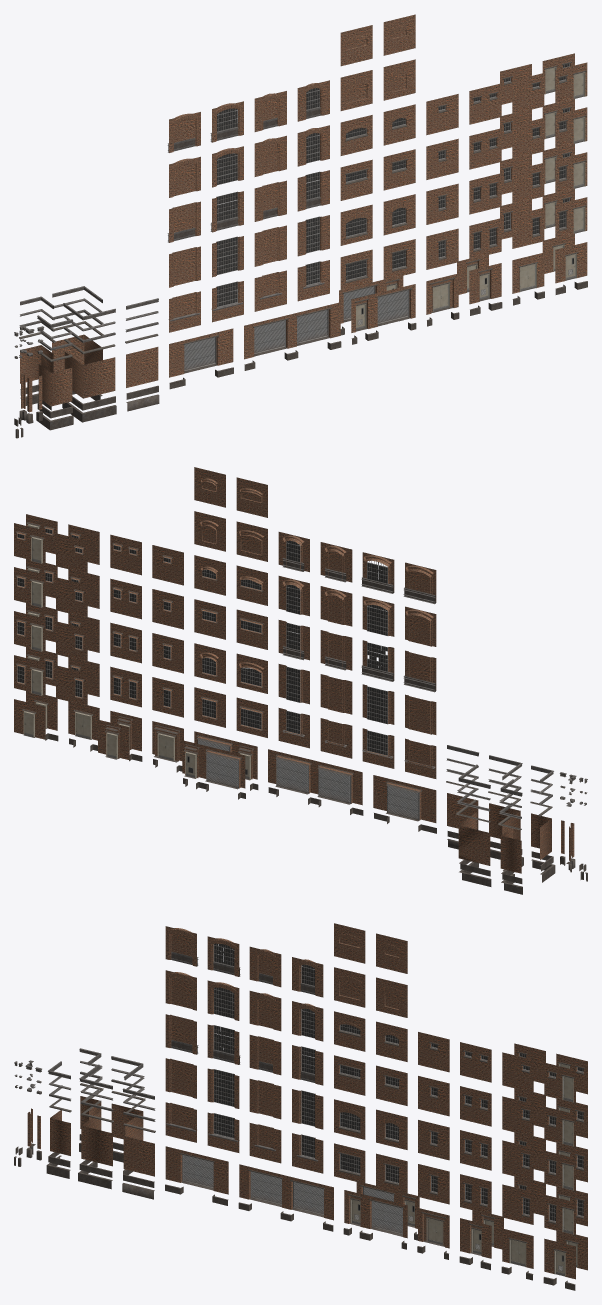
File: modular-factory-facade.glb
3 views of the same model, one above another, from view 1: azimuth 30°, elevation 25°; view 2: azimuth 150°, elevation 25°; view 3: azimuth 330°, elevation 25° (orthographic).
Visible parts, largest first — view 1: wall_standard_standard_01, window_centered_medium_03, dado_standard_corner_large_01, cornice02_standard_standard_01, door_recessed_large_01; view 2: wall_standard_standard_01, window_centered_medium_03, dado_standard_corner_large_01, cornice02_standard_standard_01, door_recessed_large_01; view 3: wall_standard_standard_01, window_centered_medium_03, dado_standard_corner_large_01, cornice02_standard_standard_01, door_recessed_large_01.
Boxes of the visible parts, x1,y1,x2,y2 form: wall_standard_standard_01: (20,14,587,412); window_centered_medium_03: (19,61,586,361); dado_standard_corner_large_01: (14,281,587,426); cornice02_standard_standard_01: (14,107,324,438); door_recessed_large_01: (356,67,585,329); wall_standard_standard_01: (14,467,574,873); window_centered_medium_03: (16,522,552,830); dado_standard_corner_large_01: (34,718,586,883); cornice02_standard_standard_01: (282,558,587,894); door_recessed_large_01: (23,524,250,779); wall_standard_standard_01: (27,923,587,1279); window_centered_medium_03: (49,943,584,1252); dado_standard_corner_large_01: (15,1134,575,1290); cornice02_standard_standard_01: (14,951,318,1199); door_recessed_large_01: (350,1063,577,1276).
Bounding box in the file's own units: 53.33 × 29 × 5.36.
Materials: 6 (6 with a texture image).
